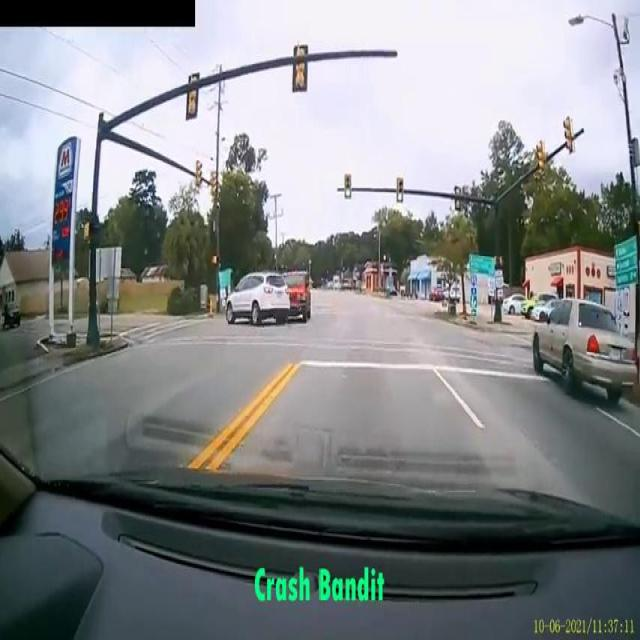moderate: (224, 256, 313, 333)
